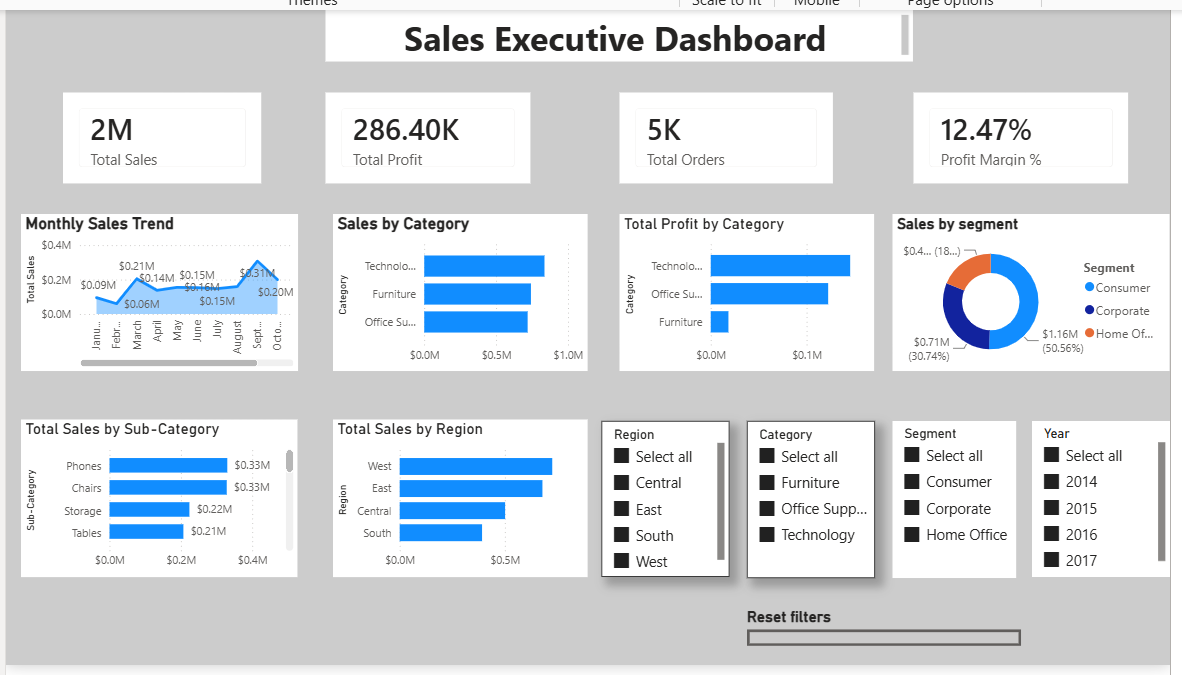

What the dashboard file says about the page in this screenshot:
{"tool":"powerbi","page":{"name":"Executive dashboard","canvas":[1280,720],"ordinal":0},"visuals":[{"type":"textbox","box":[351.5,0,646.3,56.7],"z":0},{"type":"cardVisual","title":"Total sales","fields":{"Data":["measures (3).Total Sales"]},"box":[62.1,90.9,218,99.9],"z":1000},{"type":"cardVisual","title":"Total profit","fields":{"Data":["measures (3).Total Profit"]},"box":[351.3,90.9,225.6,99.9],"z":2000},{"type":"cardVisual","title":"Orders","fields":{"Data":["measures (3).Total Orders"]},"box":[675.3,90.9,234.7,99.9],"z":3000},{"type":"cardVisual","fields":{"Data":["measures (3).Profit Margin %"]},"box":[997.9,90.9,236.2,99.9],"z":4000},{"type":"lineChart","title":"Monthly Sales Trend","fields":{"Category":["Date Table.Date.Variation.Date Hierarchy.Month"],"Y":["measures (3).Total Sales"]},"box":[16.7,224.1,304.4,172.6],"z":5000},{"type":"clusteredBarChart","title":"Sales by Category","fields":{"Category":["Orders.Category"],"Y":["measures (3).Total Sales"]},"box":[360.4,224.1,280.1,172.6],"z":6000},{"type":"clusteredBarChart","fields":{"Category":["Orders.Category"],"Y":["measures (3).Total Profit"]},"box":[675.3,224.1,280.1,172.6],"z":7000},{"type":"donutChart","title":"Sales by segment","fields":{"Category":["Orders.Segment"],"Y":["measures (3).Total Sales"]},"box":[975.1,224.1,304.4,172.6],"z":8000},{"type":"clusteredBarChart","fields":{"Category":["Orders.Sub-Category"],"Y":["measures (3).Total Sales"]},"box":[17,450.5,304,173],"z":9000},{"type":"clusteredBarChart","fields":{"Category":["Orders.Region"],"Y":["measures (3).Total Sales"]},"box":[360,451,280,173],"z":10000},{"type":"slicer","fields":{"Values":["Orders.Region"]},"box":[654.1,452.7,140.8,171.1],"z":11000},{"type":"slicer","fields":{"Values":["Orders.Category"]},"box":[814.6,451.2,140.8,172.6],"z":12000},{"type":"slicer","fields":{"Values":["Orders.Segment"]},"box":[975.1,451.2,136.3,172.6],"z":13000},{"type":"slicer","fields":{"Values":["Date Table.Year"]},"box":[1128.1,452.7,151.4,171.1],"z":14000},{"type":"actionButton","title":"Reset filters","box":[814.7,656.9,301.6,42.6],"z":15000}]}

Visuals, with their boxes on the page's 1280x720 design canvas (x1, y1, x2, y2). These are canvas units, not pixel positions in the 1182x675 screenshot, which may show the page scaled, cropped or inside an application window:
textbox: crop(352, 0, 998, 57)
"Total sales" cardVisual: crop(62, 91, 280, 191)
"Total profit" cardVisual: crop(351, 91, 577, 191)
"Orders" cardVisual: crop(675, 91, 910, 191)
cardVisual - measures (3).Profit Margin %: crop(998, 91, 1234, 191)
"Monthly Sales Trend" lineChart: crop(17, 224, 321, 397)
"Sales by Category" clusteredBarChart: crop(360, 224, 640, 397)
clusteredBarChart - Orders.Category x measures (3).Total Profit: crop(675, 224, 955, 397)
"Sales by segment" donutChart: crop(975, 224, 1280, 397)
clusteredBarChart - Orders.Sub-Category x measures (3).Total Sales: crop(17, 450, 321, 624)
clusteredBarChart - Orders.Region x measures (3).Total Sales: crop(360, 451, 640, 624)
slicer - Orders.Region: crop(654, 453, 795, 624)
slicer - Orders.Category: crop(815, 451, 955, 624)
slicer - Orders.Segment: crop(975, 451, 1111, 624)
slicer - Date Table.Year: crop(1128, 453, 1280, 624)
"Reset filters" actionButton: crop(815, 657, 1116, 700)
